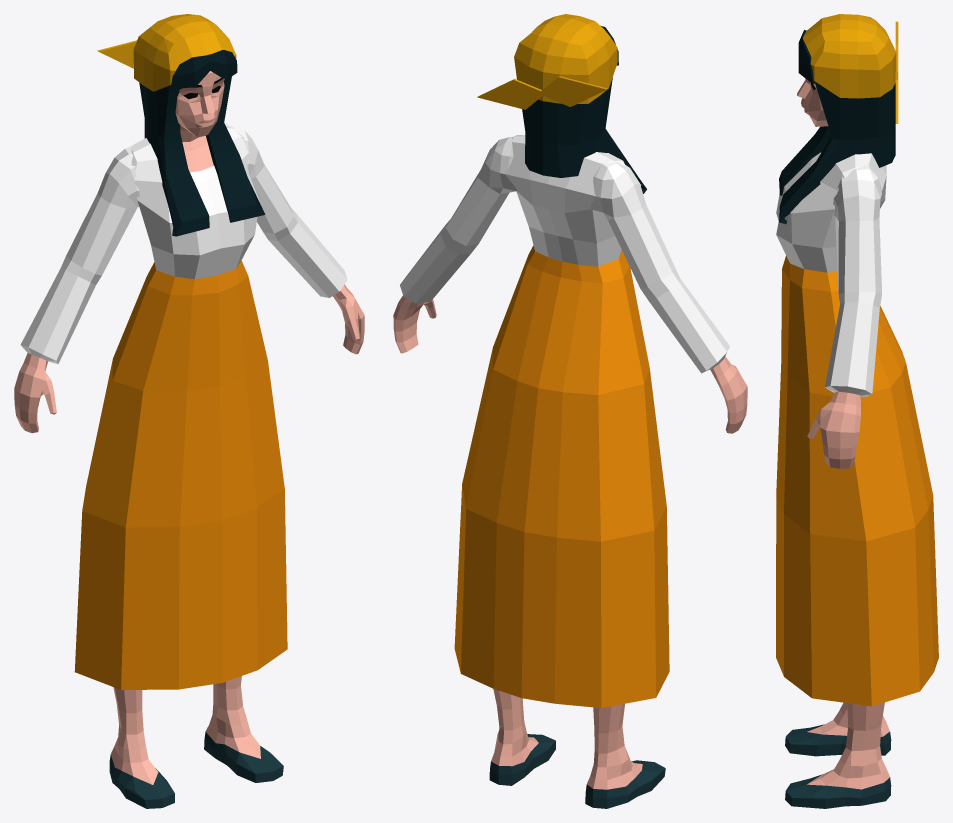
The model's file is Female_03.FBX.
The picture shows the model from 3 angles, left to right: view 1: azimuth 30°, elevation 25°; view 2: azimuth 150°, elevation 25°; view 3: azimuth 270°, elevation 25°; orthographic projection.
Parts seen in each view (by area): view 1: Female_03; view 2: Female_03; view 3: Female_03.
Boxes of the visible parts, <box> form: Female_03: <box>14,14,364,808</box>; Female_03: <box>393,14,747,808</box>; Female_03: <box>776,14,938,808</box>.
Bounding box in the file's own units: 0.8204 × 1.73 × 0.3384.
1 material, 1 textured.
